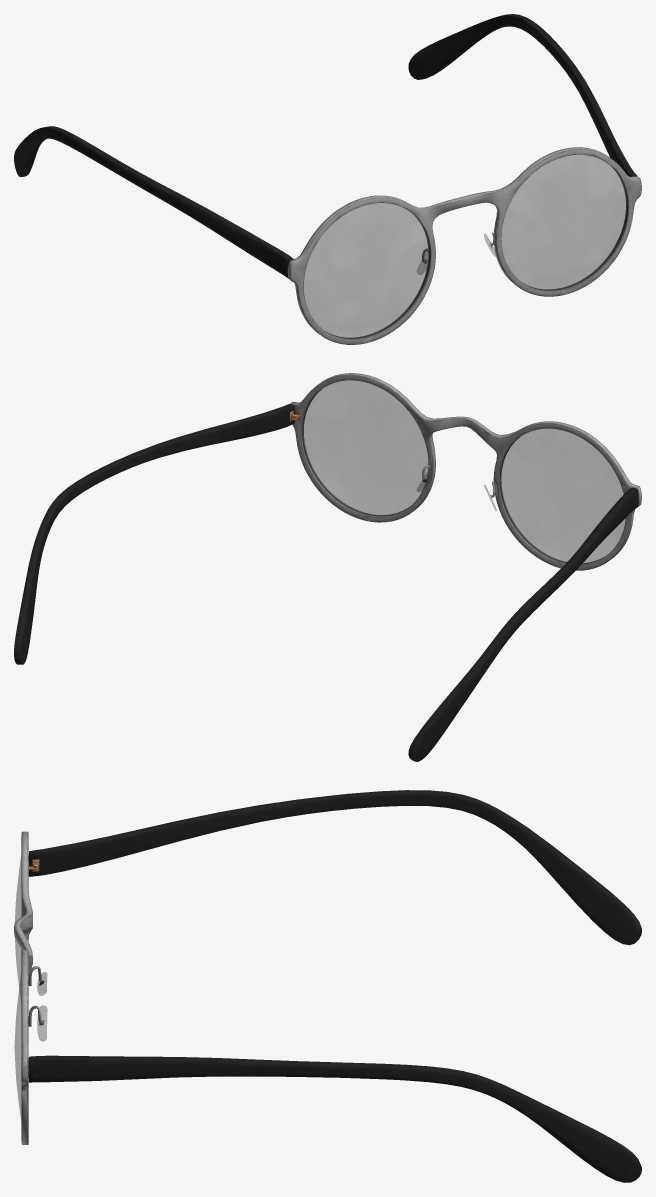
The model's file is round_spectacles.gltf.
3 views of the same model, one above another, from view 1: azimuth 30°, elevation 25°; view 2: azimuth 150°, elevation 25°; view 3: azimuth 270°, elevation 25° (orthographic). The views are drawn at different scales.
Visible parts, largest first — view 1: round_spectacles; view 2: round_spectacles; view 3: round_spectacles.
Part boxes in pixels (box(x1,y1,x2,y2)): round_spectacles: box(14, 14, 641, 344); round_spectacles: box(14, 373, 641, 761); round_spectacles: box(14, 790, 641, 1182).
Bounding box in the file's own units: 0.1578 × 0.0463 × 0.149.
2 materials, 2 textured.
